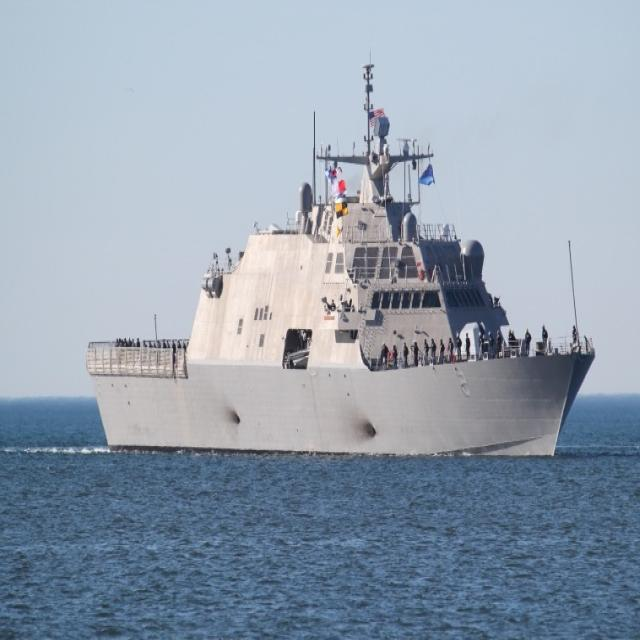navalvessels: (89, 43, 597, 450)
